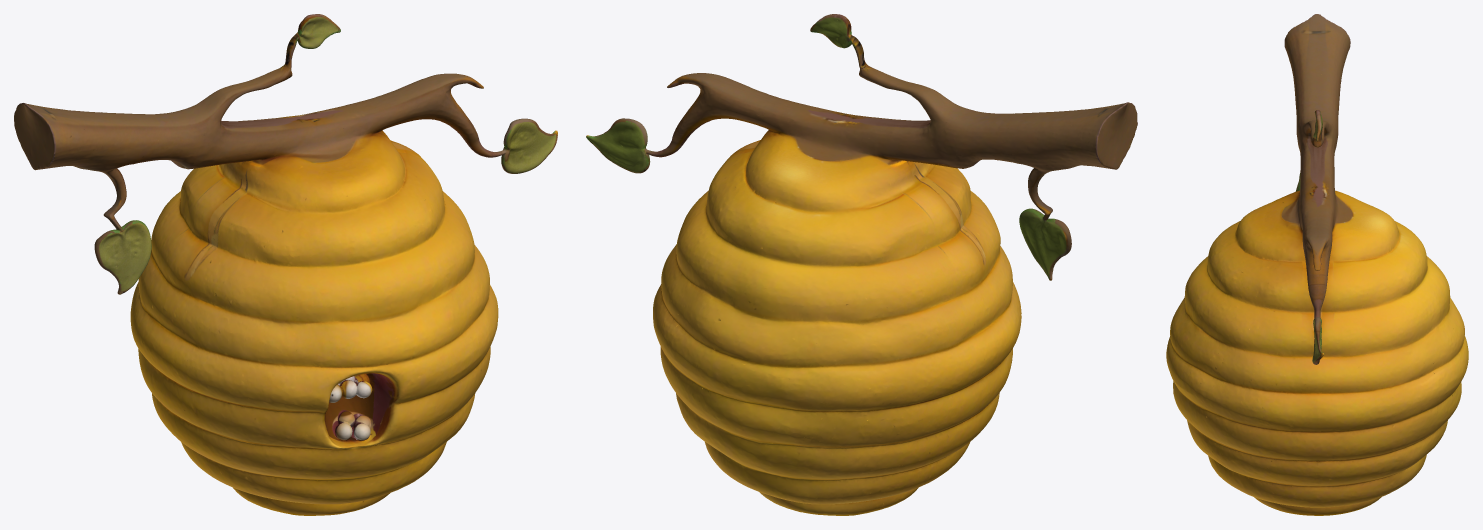
File: HoneyComb.glb
3 renders of one model, left to right at view 1: azimuth 30°, elevation 25°; view 2: azimuth 150°, elevation 25°; view 3: azimuth 270°, elevation 25°, orthographic. The views are drawn at different scales.
Bounding box in the file's own units: 1.9 × 1.6 × 1.15.
Materials: 1 (1 with a texture image).
